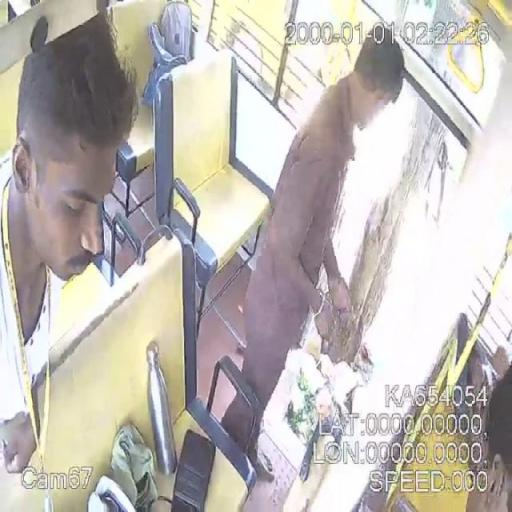persona: (221, 23, 407, 454), (0, 10, 140, 476)
